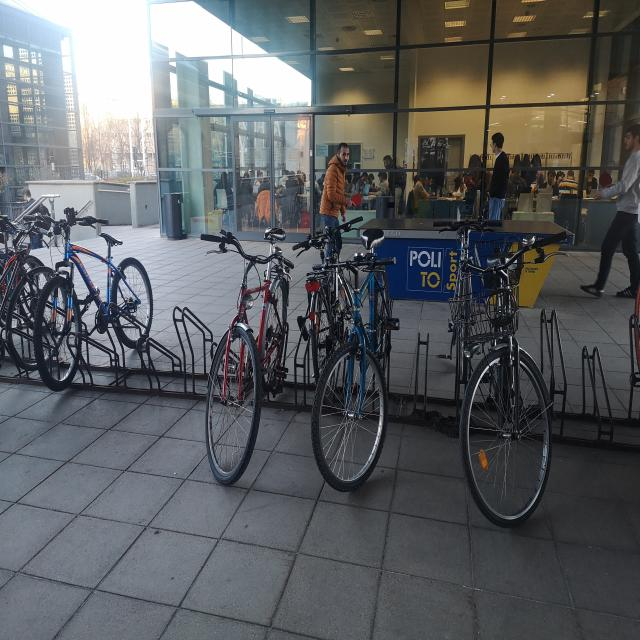Bicycle: (189, 200, 299, 500), (466, 224, 567, 533), (313, 207, 415, 496), (36, 173, 142, 384), (280, 200, 350, 390), (426, 199, 484, 399), (0, 216, 57, 370)
